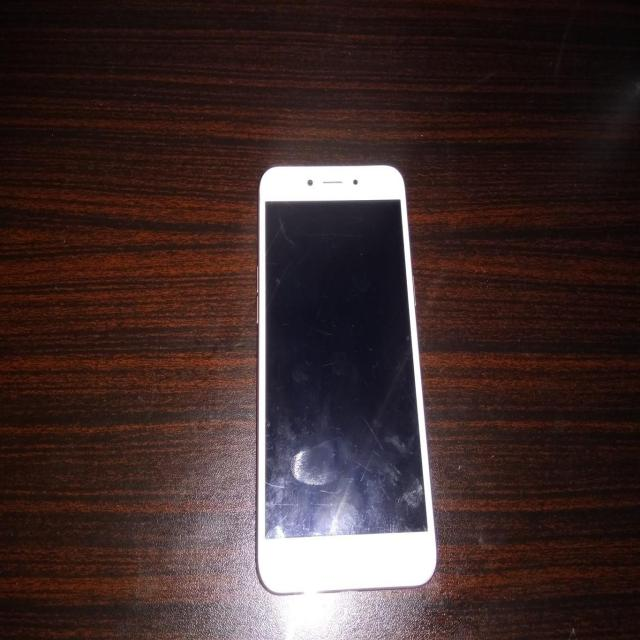Phone: (249, 157, 444, 601)
